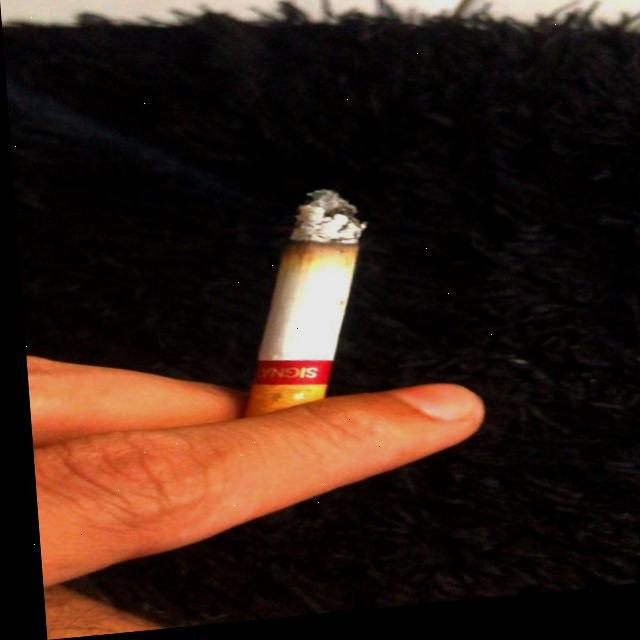cigarette: (224, 193, 372, 423)
